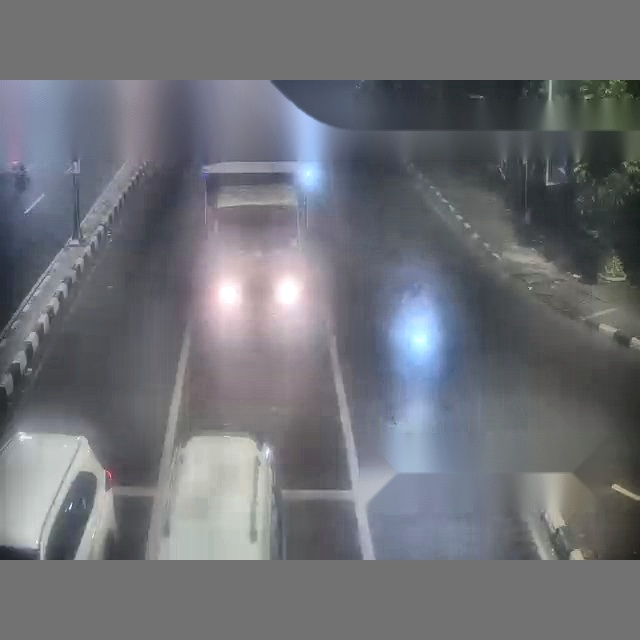Bis: (0, 81, 146, 416)
Mobil: (147, 432, 283, 559), (0, 432, 114, 558)
